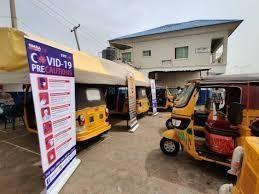keke: (160, 72, 256, 186)
